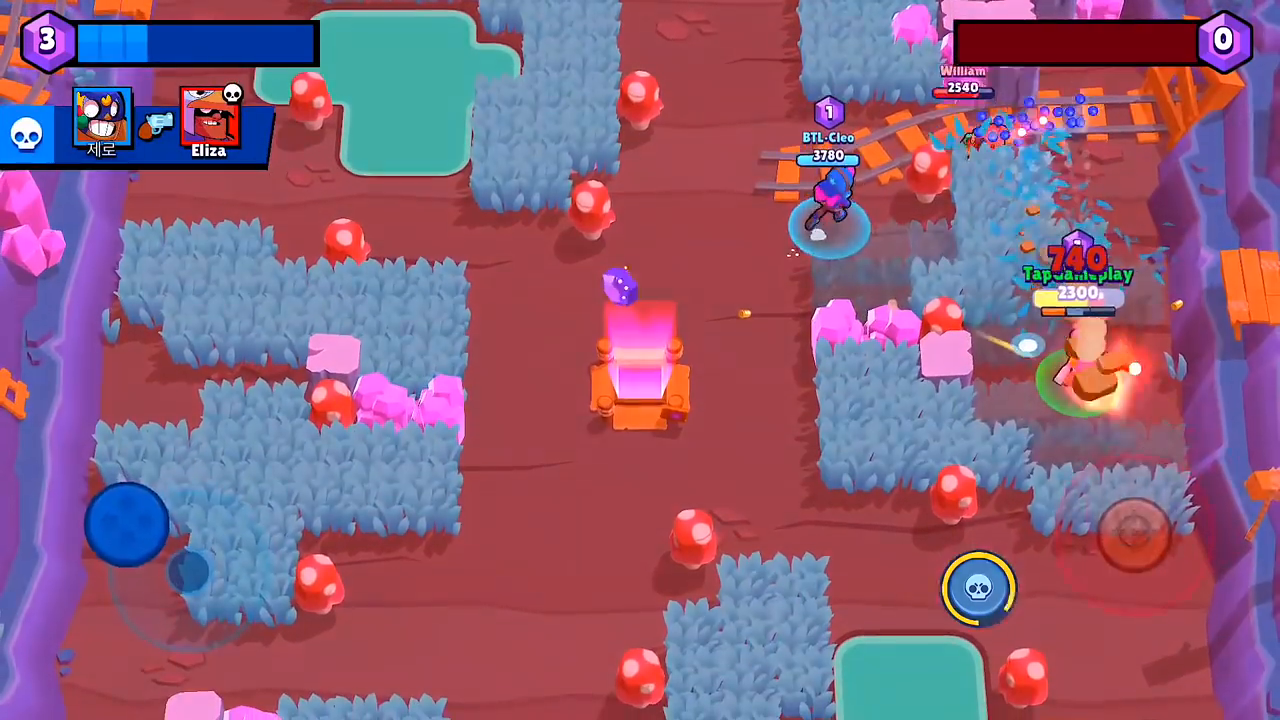move_stick: (76, 477, 180, 567)
